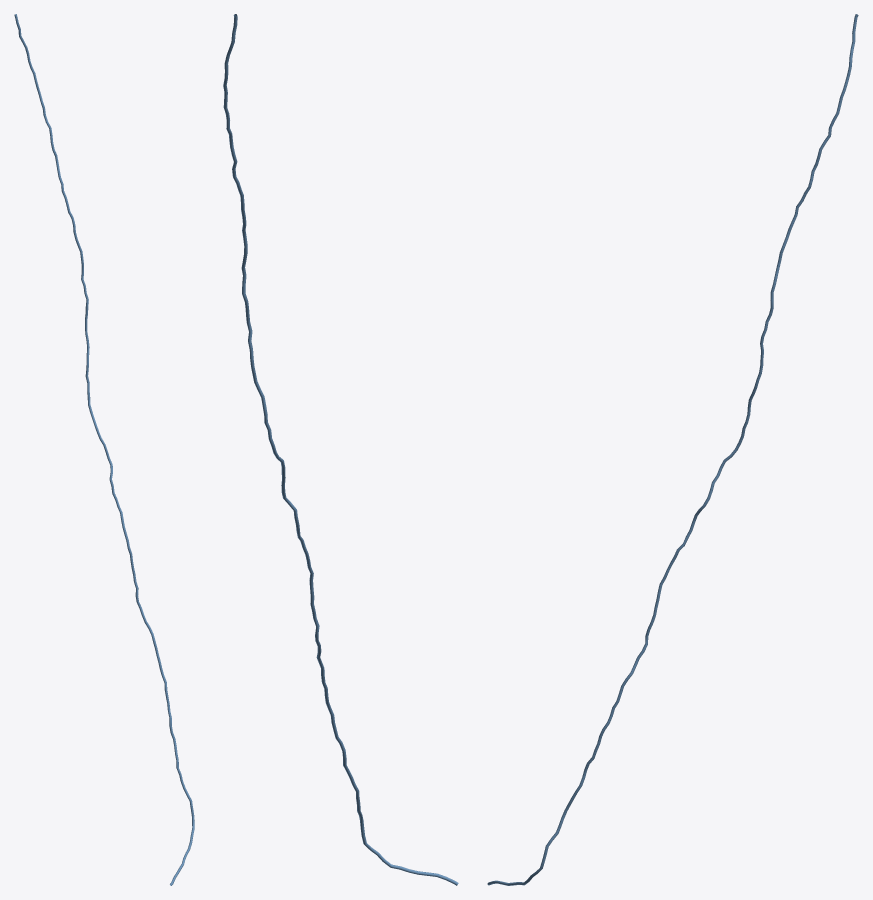
The model's file is sweep397.fbx.
The picture shows the model from 3 angles, left to right: view 1: azimuth 30°, elevation 25°; view 2: azimuth 150°, elevation 25°; view 3: azimuth 270°, elevation 25°; orthographic projection. The views are drawn at different scales.
Visible parts, largest first — view 1: sweep397; view 2: sweep397; view 3: sweep397.
Boxes of the visible parts, x1=… form: sweep397: x1=14, y1=14, x2=194, y2=885; sweep397: x1=223, y1=14, x2=458, y2=885; sweep397: x1=487, y1=14, x2=858, y2=885.
Size of the model in its own units: 0.4175 by 6.34 by 2.44.
